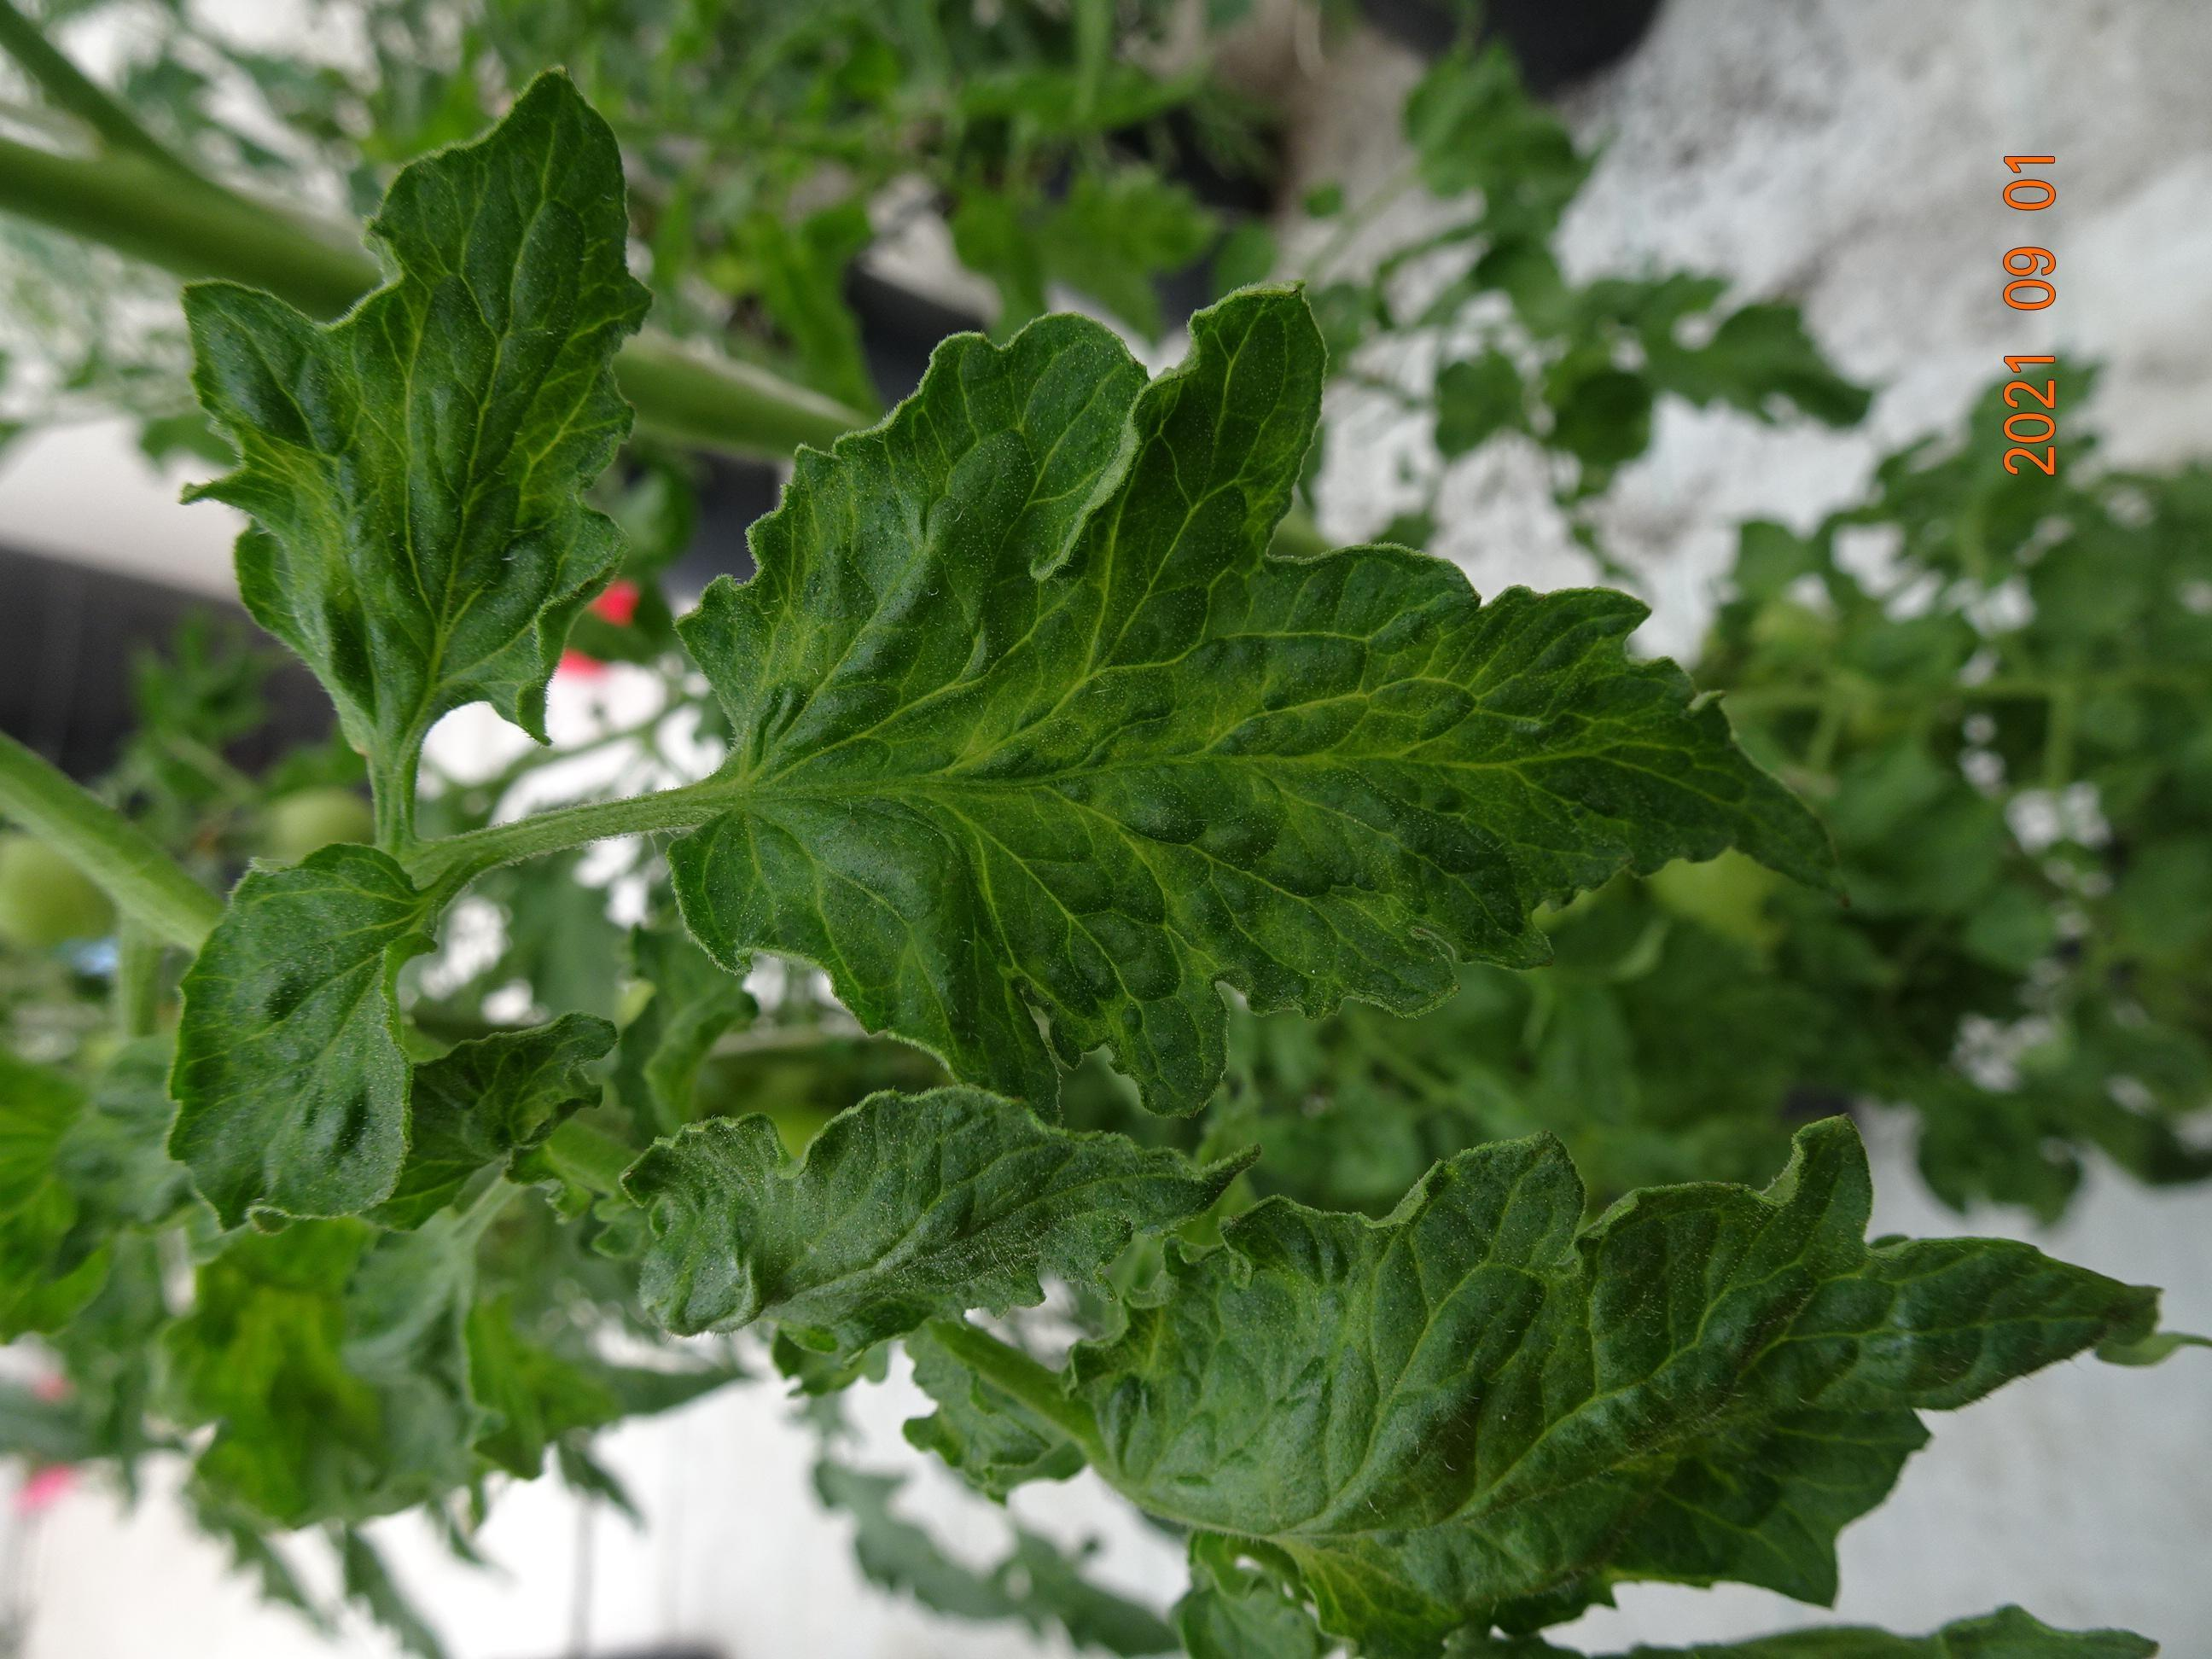Rugose leaf: (669, 289, 1832, 1110), (1071, 1119, 2156, 1656), (186, 73, 648, 850), (622, 1089, 1244, 1356), (169, 847, 428, 1227)
